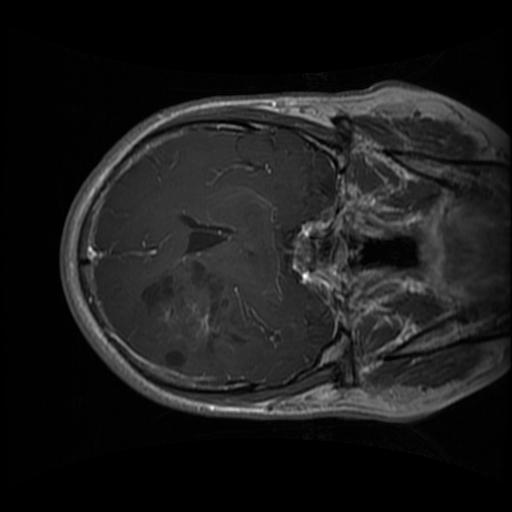glioma: (138, 257, 242, 371)
